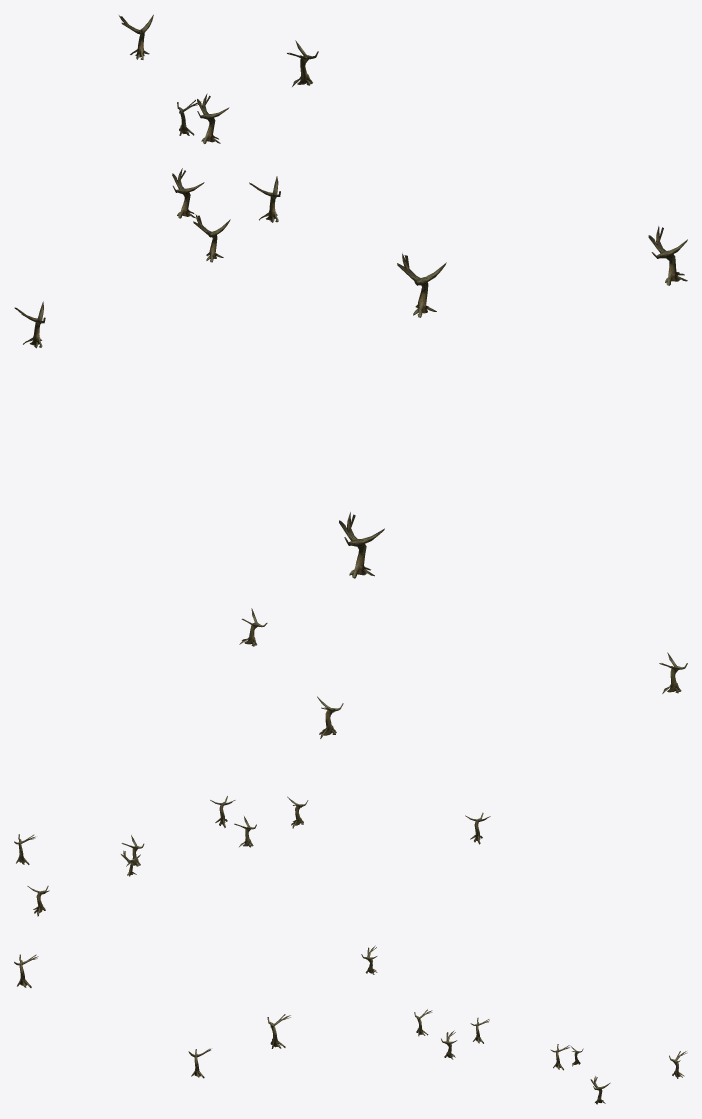
The model's file is DeadThreesExport.FBX.
3 renders of one model, top to bottom at view 1: azimuth 30°, elevation 25°; view 2: azimuth 150°, elevation 25°; view 3: azimuth 270°, elevation 25°, orthographic. The views are drawn at different scales.
Parts seen in each view (by area): view 1: Group22297; view 2: Group22297; view 3: Group22297.
Part boxes in pixels (<box>): Group22297: <box>14,14,687,578</box>; Group22297: <box>14,608,687,916</box>; Group22297: <box>14,945,687,1104</box>.
Size of the model in its own units: 233 by 50.6 by 463.
